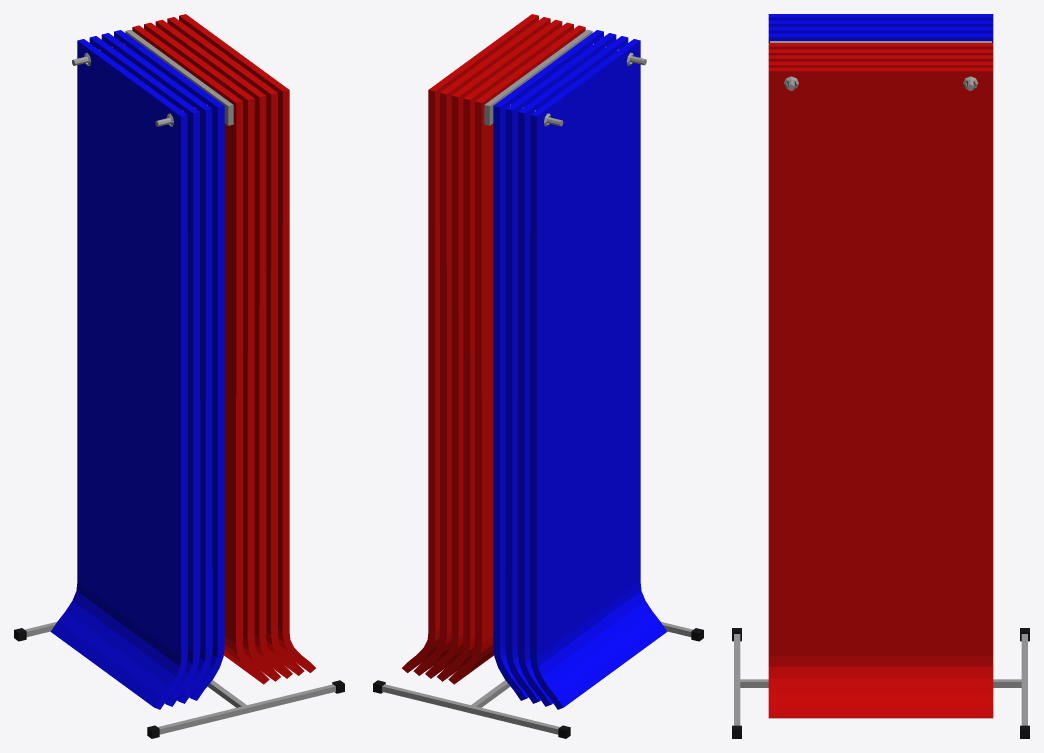
The model's file is FitnessMatRack.fbx.
3 views of the same model, side by side, from view 1: azimuth 30°, elevation 25°; view 2: azimuth 150°, elevation 25°; view 3: azimuth 270°, elevation 25° (orthographic). The views are drawn at different scales.
Visible parts, largest first — view 1: FitnessMatRack; view 2: FitnessMatRack; view 3: FitnessMatRack.
Part boxes in pixels (x1,y1,x2,y2): FitnessMatRack: [14, 14, 344, 738]; FitnessMatRack: [373, 14, 703, 738]; FitnessMatRack: [732, 14, 1029, 738].
Bounding box in the file's own units: 60.9 × 181 × 75.23.
